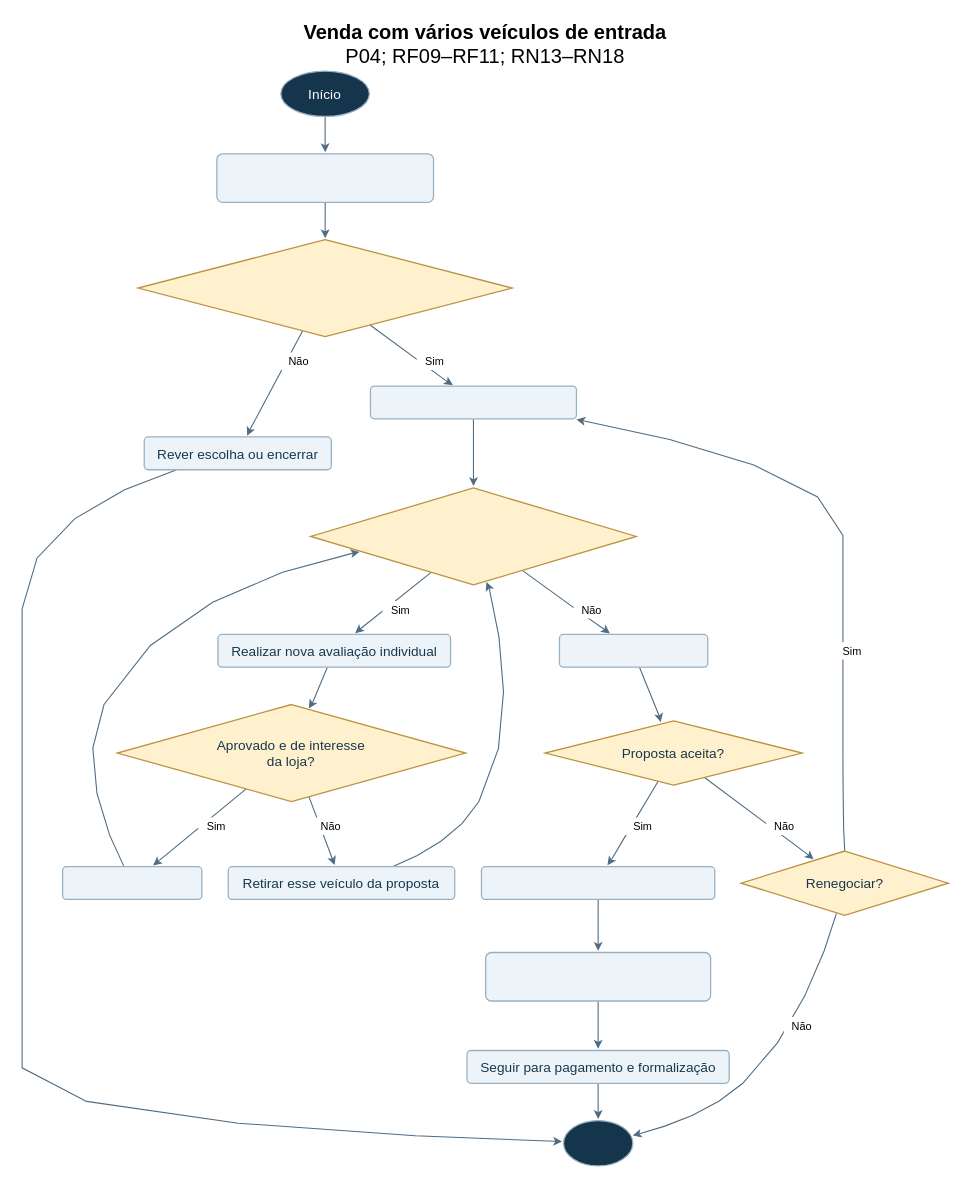
Image size: 966x1183. Some labels were removed from this diagram. Each missing label, with the centre of its shape:
Consolidar proposta: the point at 633,650
Definir valor aceito: the point at 132,883
Fim: the point at 597,1142
Há outro veículo de entrada para analisar?: the point at 473,536
Identificar comprador e veículo principal: the point at 325,177
Negociar valores e condições: the point at 473,402
Registrar as ENTRADAS aceitas vinculadas à venda: the point at 598,976
Registrar VENDA e contrato único: the point at 597,883
Veículo disponível para a negociação?: the point at 324,288
